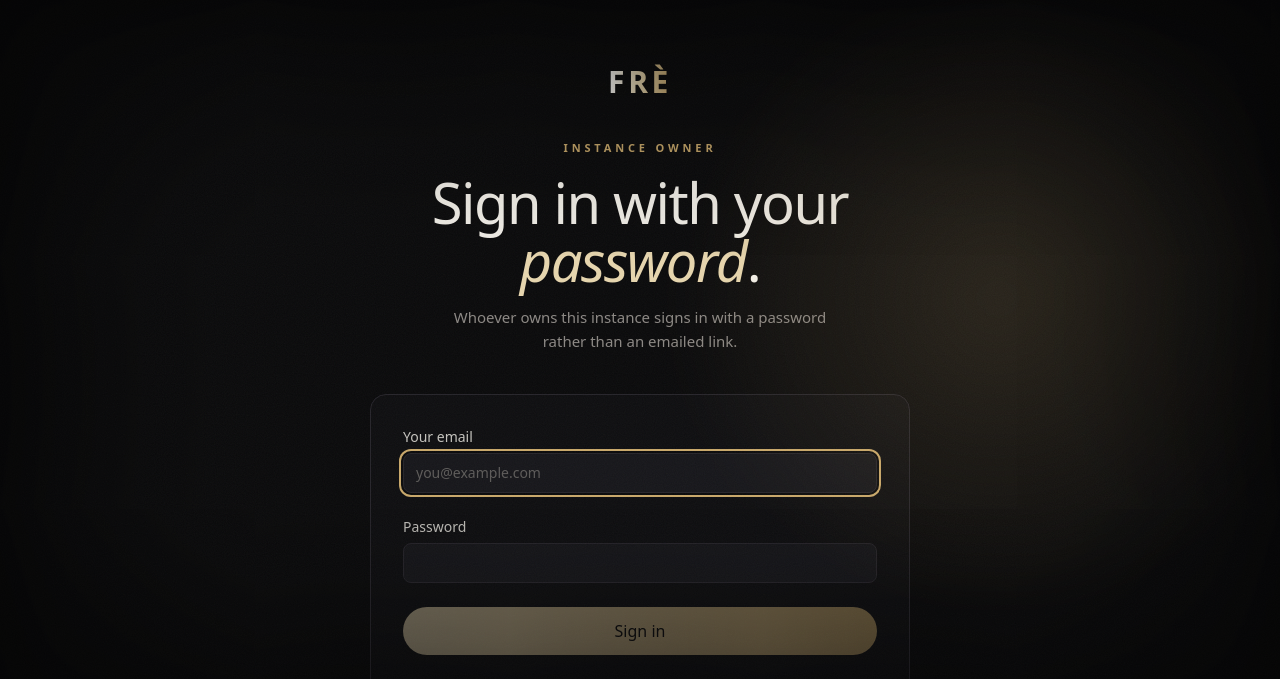
Test: OwnerSignInPage › reports an unreachable instance and keeps the form
The image size is (1280, 679).
Type "owner@example.com" into the field labelled "Your email" at (640, 473), box [403,453,877,493]
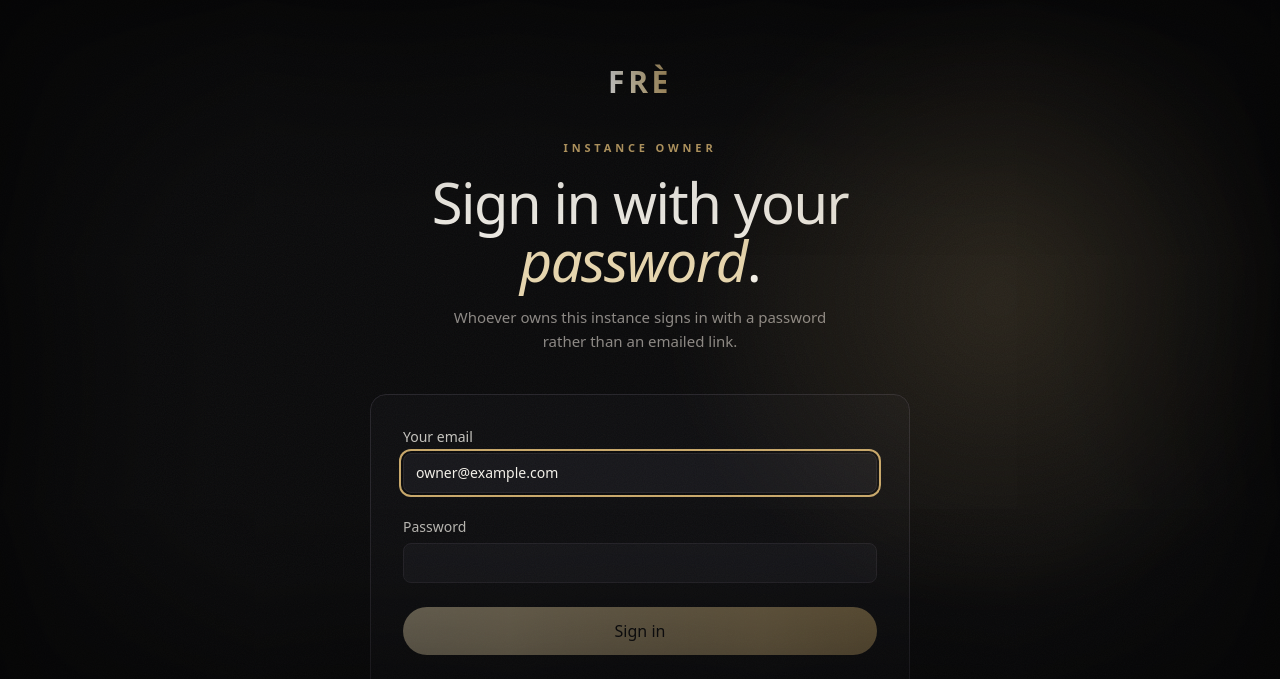
Type "correct-horse-battery" into the password field labelled "Password" at (640, 563), box [403,543,877,583]
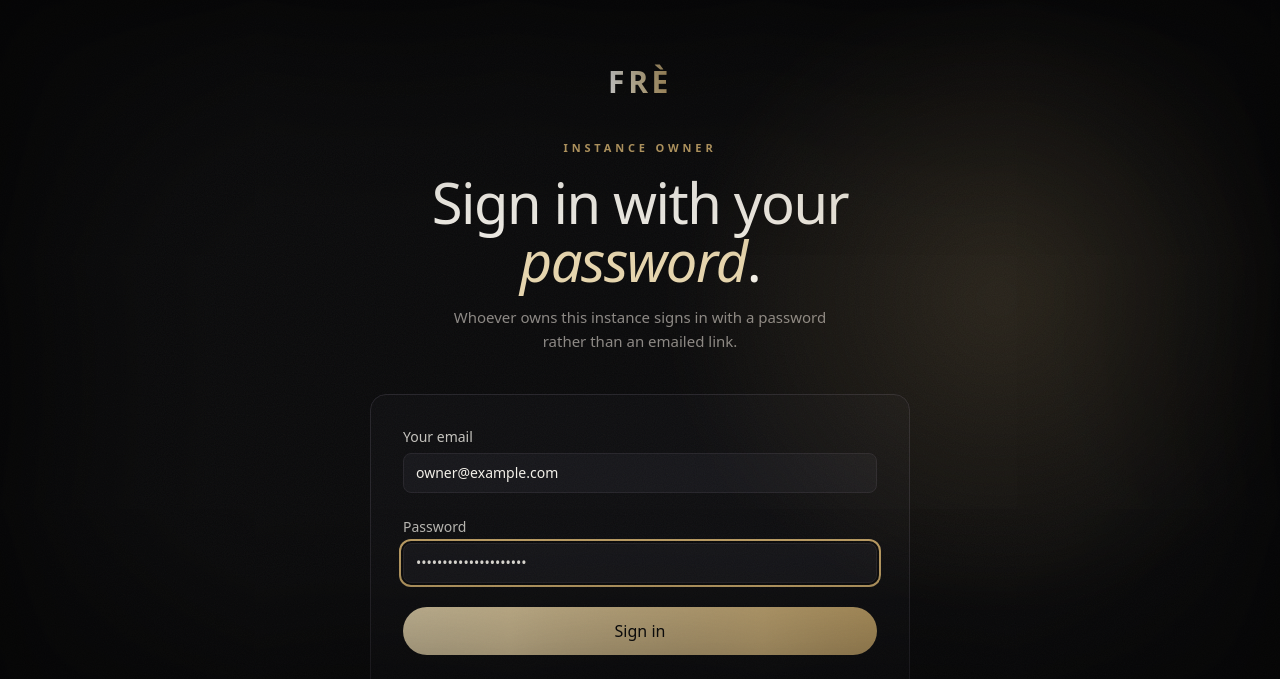
Click the button "Sign in" at (640, 631), box [403,607,877,655]
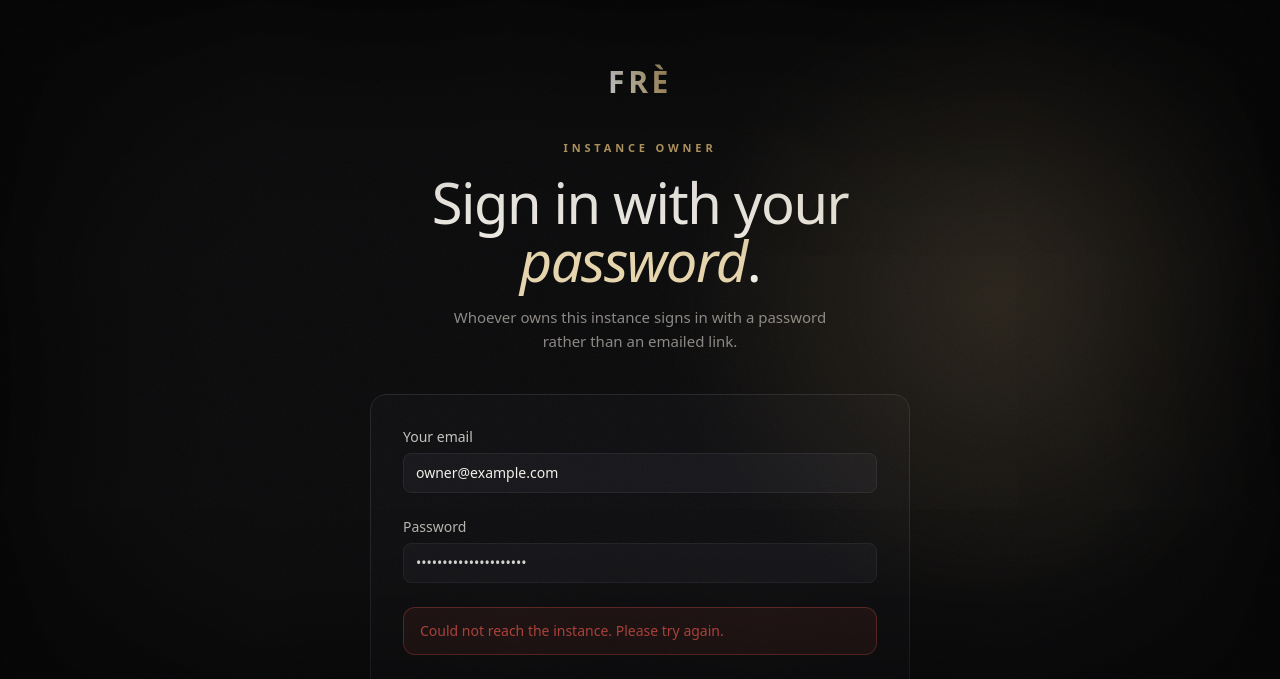
Expected: the message shows "Could not reach the instance", [420,621,724,640]
